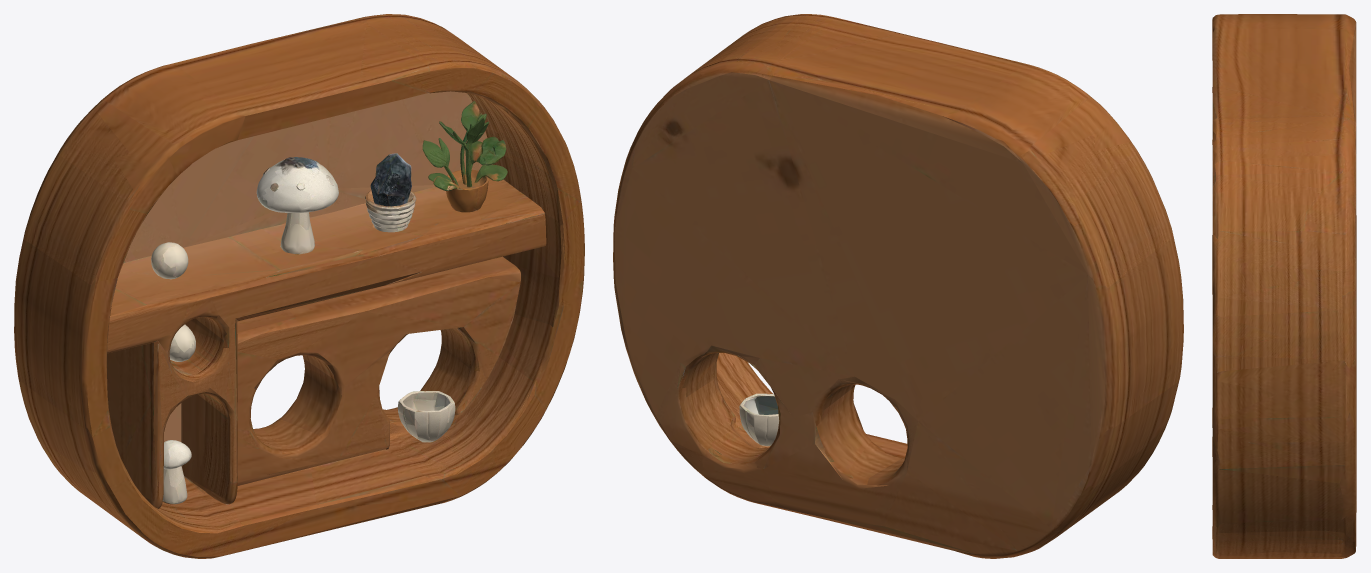
The model's file is hall-shelf.glb.
The picture shows the model from 3 angles, left to right: view 1: azimuth 30°, elevation 25°; view 2: azimuth 150°, elevation 25°; view 3: azimuth 270°, elevation 25°; orthographic projection. The views are drawn at different scales.
Size of the model in its own units: 1.9 by 1.59 by 0.4888.
1 material, 1 textured.
